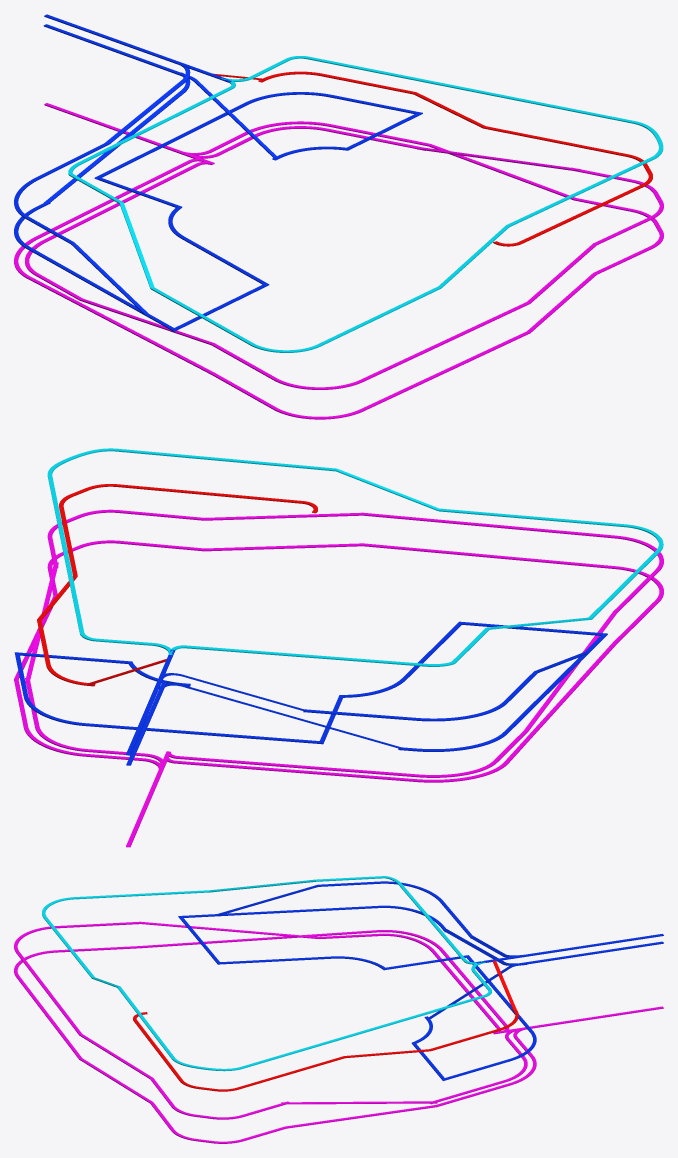
The model's file is ARCHI-MIDDLE-delivery.fbx.
3 views of the same model, one above another, from view 1: azimuth 30°, elevation 25°; view 2: azimuth 150°, elevation 25°; view 3: azimuth 270°, elevation 25° (orthographic). The views are drawn at different scales.
Visible parts, largest first — view 1: delivery rail; view 2: delivery rail; view 3: delivery rail.
Part boxes in pixels (<box>): delivery rail: <box>14,14,663,419</box>; delivery rail: <box>14,448,663,847</box>; delivery rail: <box>14,876,663,1143</box>.
Bounding box in the file's own units: 5664 × 917 × 7296.
